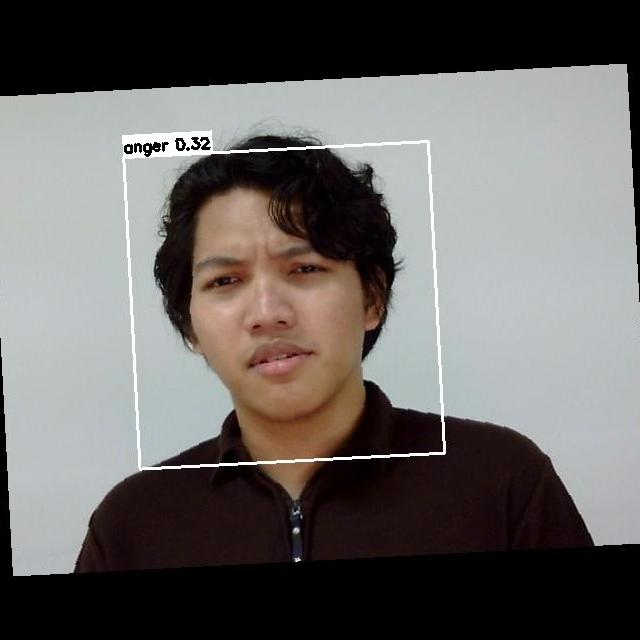Fear: (179, 223, 369, 394)
